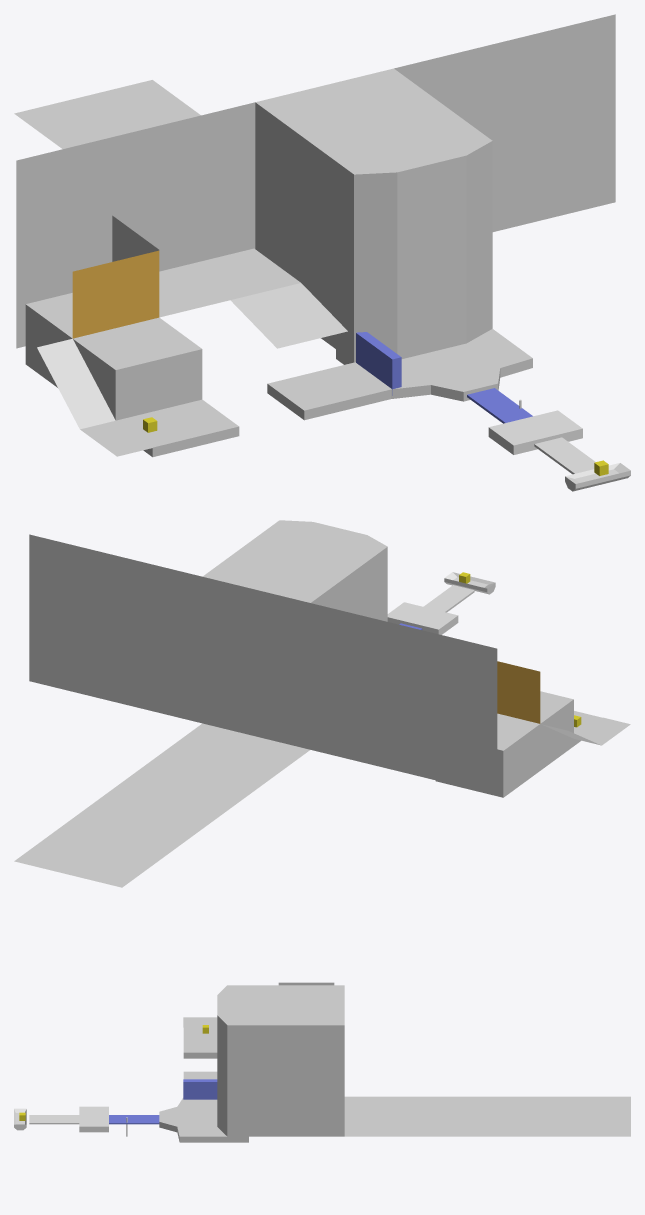
The model's file is basemap.glb.
3 renders of one model, top to bottom at view 1: azimuth 30°, elevation 25°; view 2: azimuth 150°, elevation 25°; view 3: azimuth 270°, elevation 25°, orthographic. The views are drawn at different scales.
Parts seen in each view (by area): view 1: mapbase-col, dock-col, barrier-magic-col, dock-magic-col, boat-col; view 2: mapbase-col, dock-col, boat-col; view 3: mapbase-col, dock-col, barrier-magic-col, dock-magic-col.
Part boxes in pixels (box(x1,y1,x2,y2)): mapbase-col: box(14, 14, 615, 457); dock-col: box(488, 410, 595, 474); barrier-magic-col: box(356, 332, 401, 395); dock-magic-col: box(467, 388, 532, 423); boat-col: box(565, 463, 630, 491); mapbase-col: box(14, 520, 630, 887); dock-col: box(387, 585, 474, 634); boat-col: box(444, 572, 495, 594); mapbase-col: box(159, 982, 630, 1142); dock-col: box(29, 1106, 108, 1132); barrier-magic-col: box(183, 1079, 217, 1099); dock-magic-col: box(109, 1115, 159, 1124).
Size of the model in its own units: 137 by 44.48 by 195.
